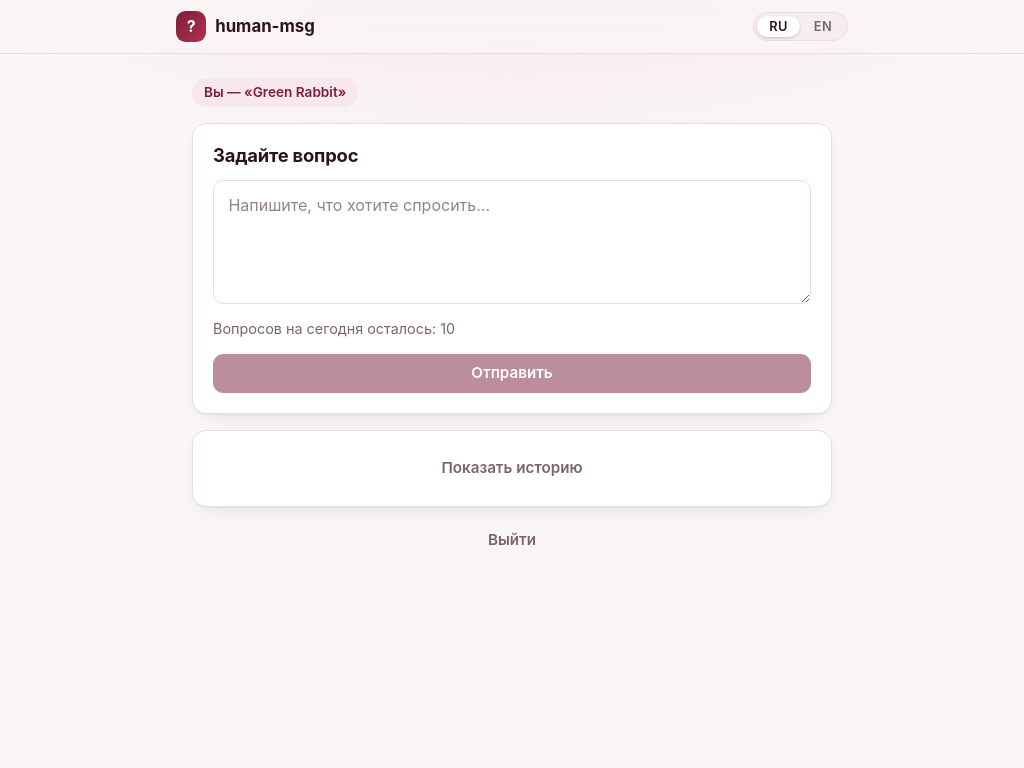
asking a question › sends the question and then shows that someone is being looked for
Type "What is the meaning of life?" into the text box at x=512, y=242, box [213, 180, 811, 304]
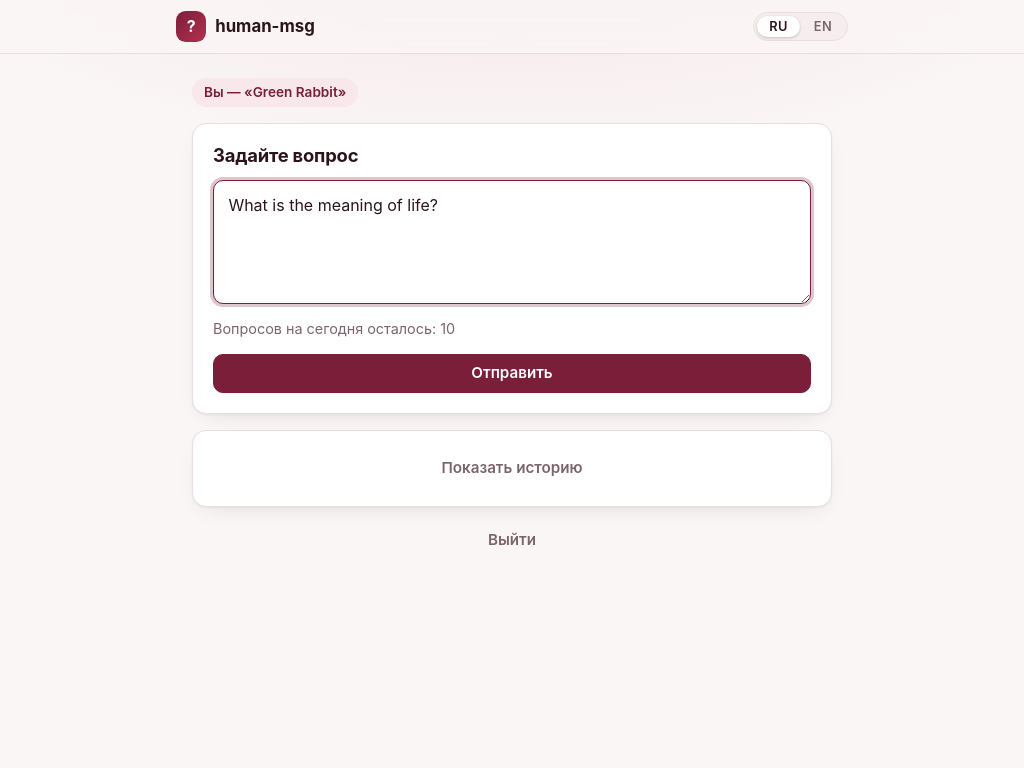
Click the button "Отправить" at x=512, y=373, box [213, 354, 811, 393]
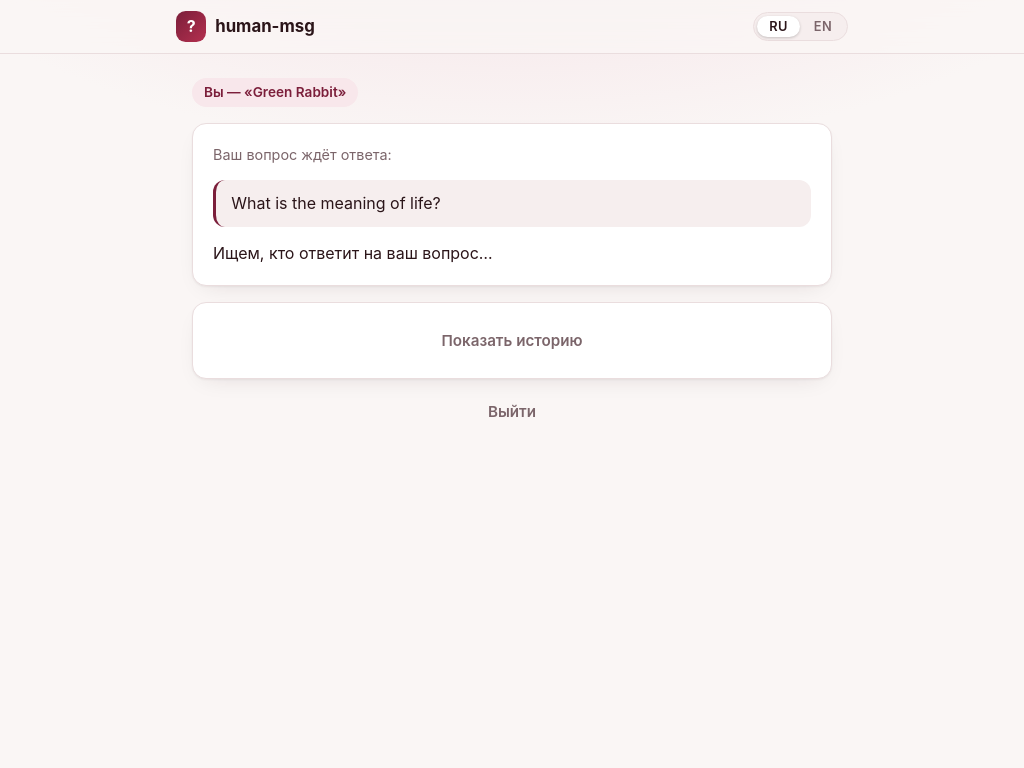
Now the text with test id "pending" reads "What is the meaning of life?", box [231, 193, 441, 213]
Now the message with test id "pending-status" reads "Ищем, кто ответит на ваш вопрос…", box [213, 242, 493, 262]
